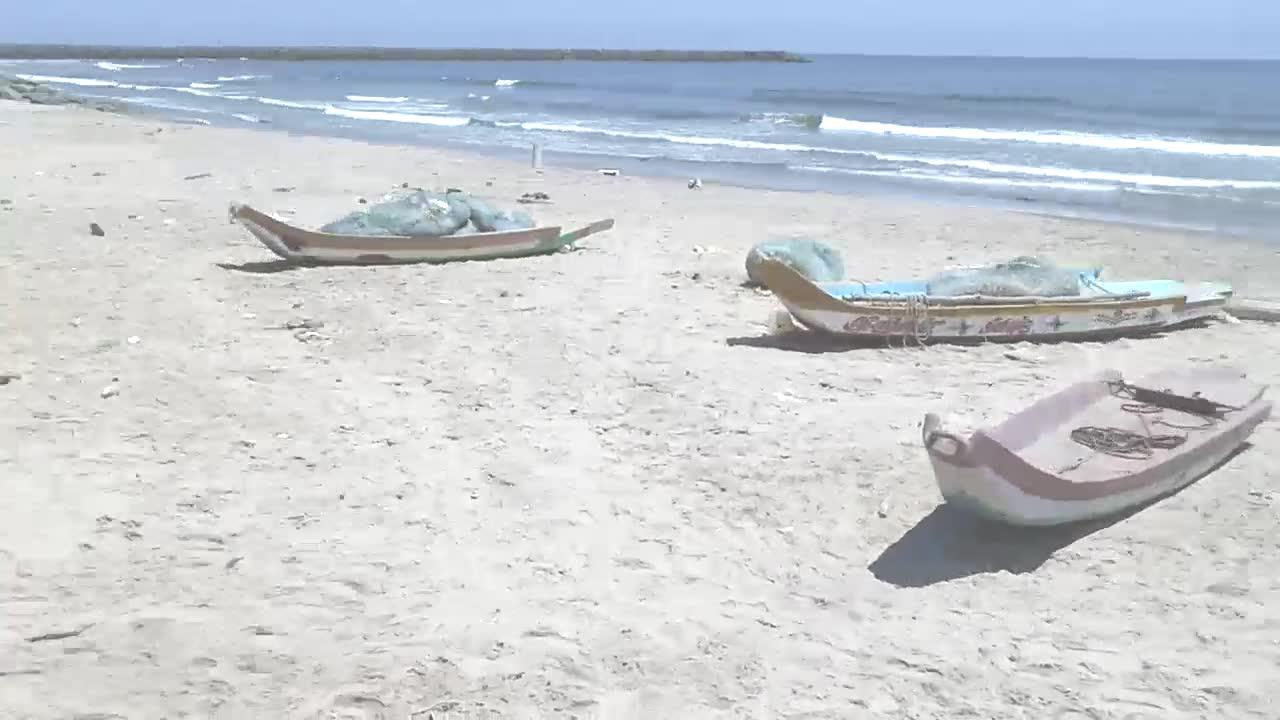large collection of objects: (925, 360, 1271, 576), (752, 234, 1240, 348), (229, 180, 621, 268)
obj: (514, 191, 556, 204), (530, 145, 542, 174), (89, 223, 108, 236)
sand/background: (0, 0, 1279, 254)
